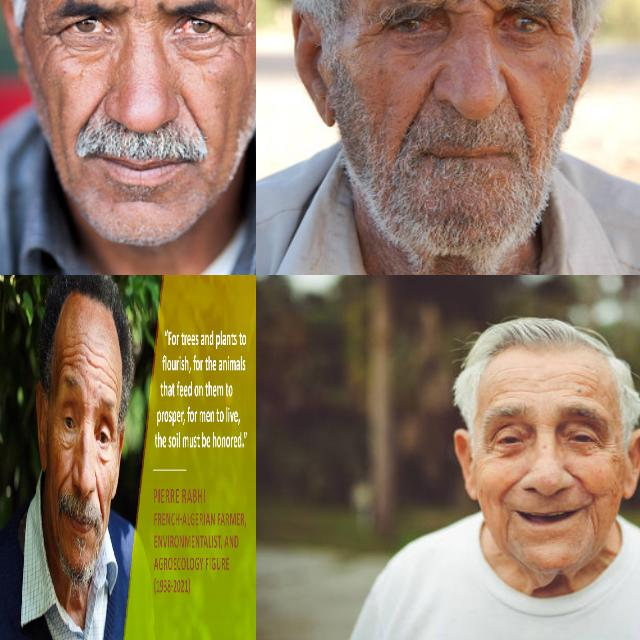crows_feet: (33, 18, 61, 56), (352, 18, 386, 48), (220, 20, 248, 56), (544, 14, 570, 44), (482, 436, 494, 454)
forehead: (577, 368, 601, 392), (492, 384, 530, 394), (59, 345, 72, 371), (99, 351, 108, 388), (108, 362, 118, 395), (86, 349, 100, 371), (75, 337, 85, 367)
frown_line: (441, 0, 470, 26), (472, 0, 493, 13)
gummy_smile: (400, 74, 432, 140), (503, 72, 527, 146), (79, 92, 105, 136), (182, 94, 206, 136), (495, 473, 523, 492), (568, 468, 588, 492), (56, 470, 68, 498), (96, 482, 104, 514)
sad_smile: (586, 510, 604, 542), (498, 509, 514, 543)
